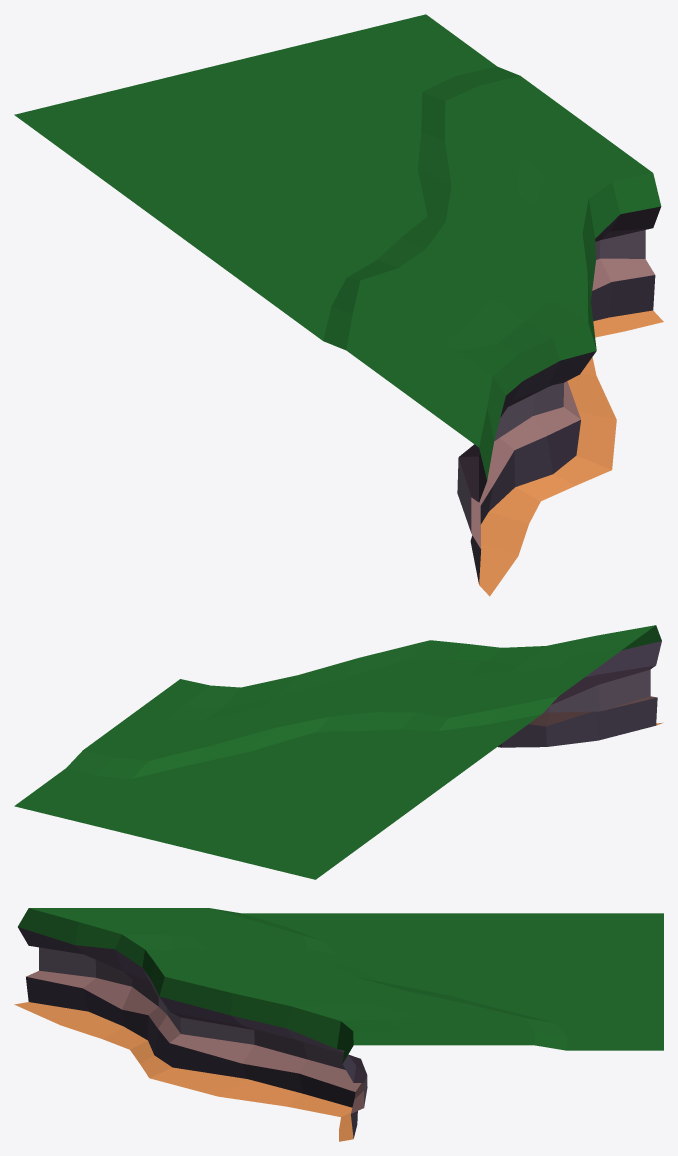
Rendered from Barranco_a_Playa_ChanfleDI.fbx.
The picture shows the model from 3 angles, top to bottom: view 1: azimuth 30°, elevation 25°; view 2: azimuth 150°, elevation 25°; view 3: azimuth 270°, elevation 25°; orthographic projection. The views are drawn at different scales.
Visible parts, largest first — view 1: Barranco_a_Playa_ChanfleDI; view 2: Barranco_a_Playa_ChanfleDI; view 3: Barranco_a_Playa_ChanfleDI.
Part boxes in pixels (left/top/right/bottom): Barranco_a_Playa_ChanfleDI: left=14, top=14, right=663, bottom=596; Barranco_a_Playa_ChanfleDI: left=14, top=625, right=663, bottom=879; Barranco_a_Playa_ChanfleDI: left=14, top=908, right=663, bottom=1141.
Size of the model in its own units: 2000 by 662 by 4000.
